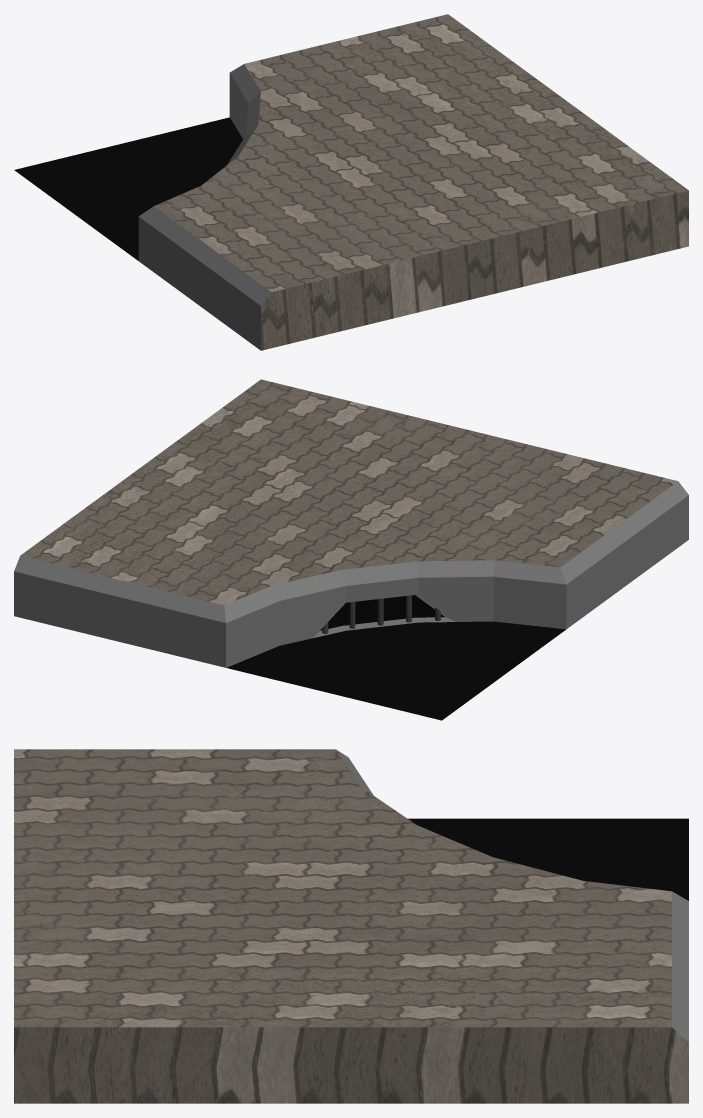
Rendered from Internal_round_sidewalk.fbx.
3 views of the same model, one above another, from view 1: azimuth 30°, elevation 25°; view 2: azimuth 150°, elevation 25°; view 3: azimuth 270°, elevation 25° (orthographic). The views are drawn at different scales.
Visible parts, largest first — view 1: Esquina redonda interna; view 2: Esquina redonda interna; view 3: Esquina redonda interna.
Boxes of the visible parts, x1,y1,x2,y2 form: Esquina redonda interna: (14, 14, 688, 350); Esquina redonda interna: (14, 379, 688, 720); Esquina redonda interna: (14, 749, 688, 1103).
Size of the model in its own units: 800 by 106 by 800.
